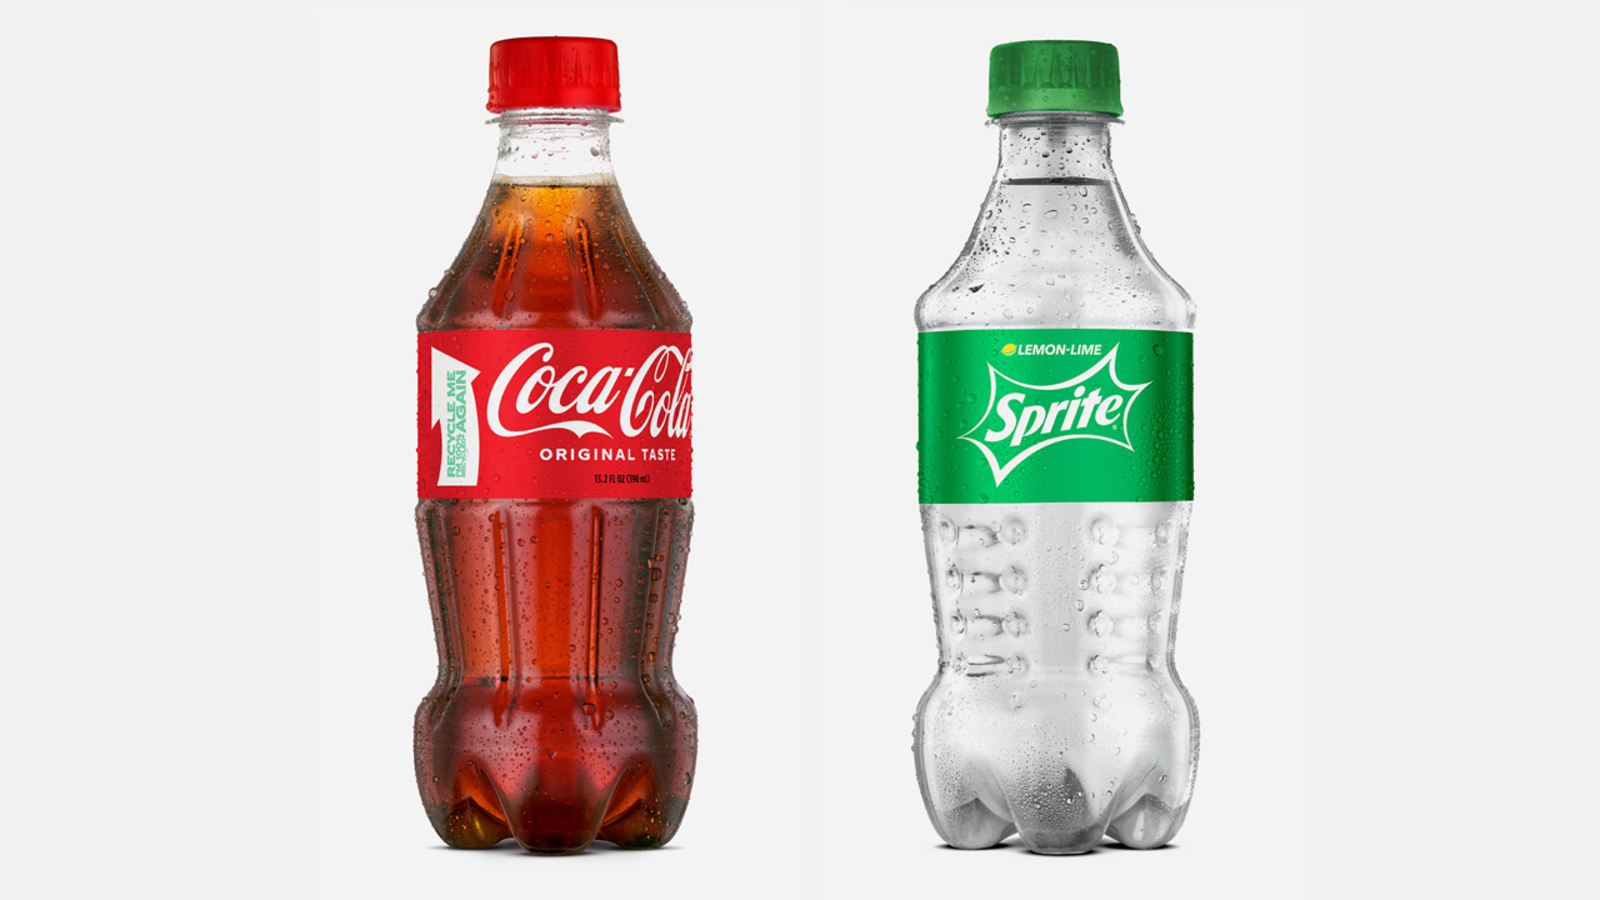plastic_bottle: (767, 8, 1426, 900), (267, 5, 822, 900)
